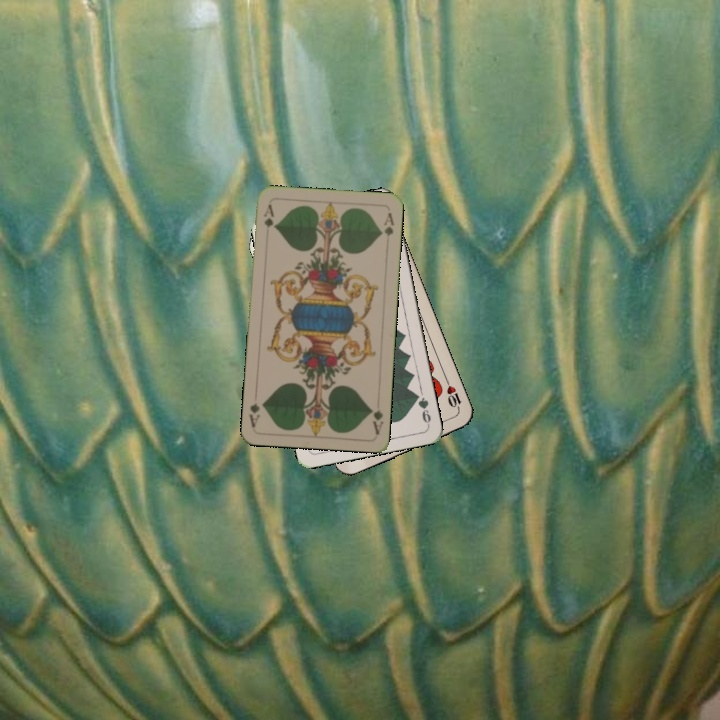G9: (411, 389, 434, 428)
GA: (366, 405, 385, 436), (260, 200, 276, 230)
H10: (442, 375, 464, 415)
